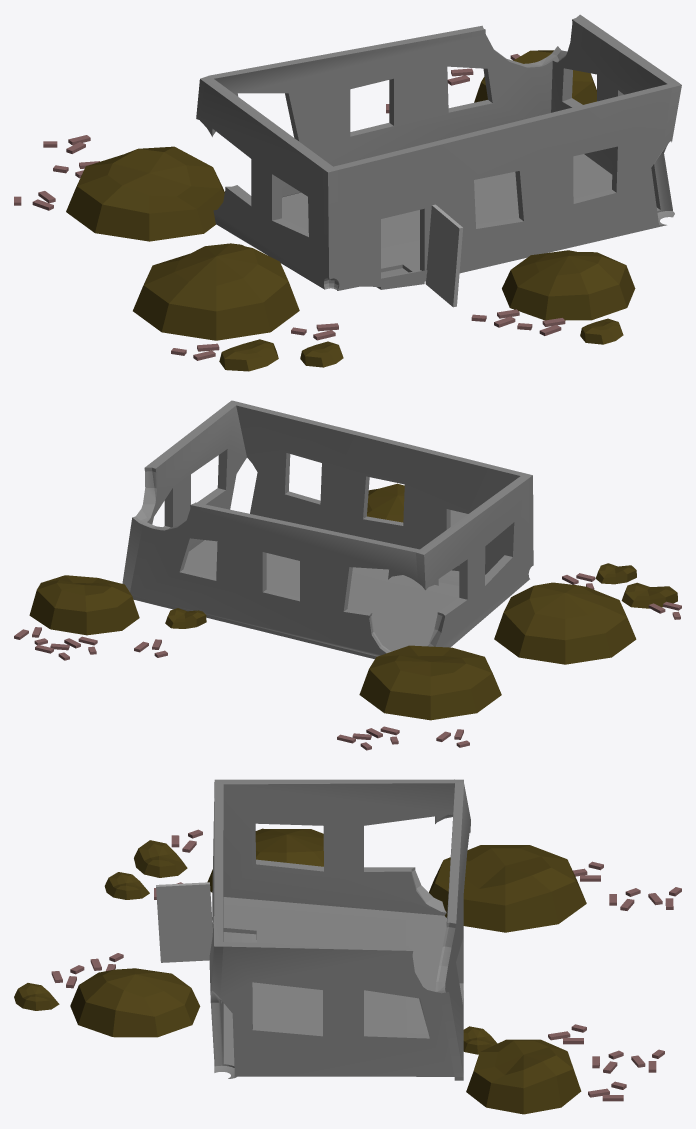
File: SmallRubble.fbx
3 renders of one model, top to bottom at view 1: azimuth 30°, elevation 25°; view 2: azimuth 150°, elevation 25°; view 3: azimuth 270°, elevation 25°, orthographic. The views are drawn at different scales.
Visible parts, largest first — view 1: BetaLevelProps3:BetaLevelProps3:polySurface3, BetaLevelProps3:BetaLevelProps3:pSphere1, BetaLevelProps3:BetaLevelProps3:pSphere6, BetaLevelProps3:BetaLevelProps3:pSphere3, BetaLevelProps3:BetaLevelProps3:pCube34, BetaLevelProps3:BetaLevelProps3:pSphere2, BetaLevelProps3:BetaLevelProps3:pSphere8, BetaLevelProps3:BetaLevelProps3:pSphere4, BetaLevelProps3:BetaLevelProps3:pSphere5; view 2: BetaLevelProps3:BetaLevelProps3:polySurface3, BetaLevelProps3:BetaLevelProps3:pSphere1, BetaLevelProps3:BetaLevelProps3:pSphere6, BetaLevelProps3:BetaLevelProps3:pSphere8, BetaLevelProps3:BetaLevelProps3:pSphere3, BetaLevelProps3:BetaLevelProps3:pSphere2, BetaLevelProps3:BetaLevelProps3:pSphere4, BetaLevelProps3:BetaLevelProps3:pSphere7; view 3: BetaLevelProps3:BetaLevelProps3:polySurface3, BetaLevelProps3:BetaLevelProps3:pSphere6, BetaLevelProps3:BetaLevelProps3:pSphere3, BetaLevelProps3:BetaLevelProps3:pSphere8, BetaLevelProps3:BetaLevelProps3:pCube34, BetaLevelProps3:BetaLevelProps3:pSphere1, BetaLevelProps3:BetaLevelProps3:pSphere2, BetaLevelProps3:BetaLevelProps3:pSphere5, BetaLevelProps3:BetaLevelProps3:pSphere4, BetaLevelProps3:BetaLevelProps3:pSphere7.
Boxes of the visible parts, x1,y1,x2,y2 form: BetaLevelProps3:BetaLevelProps3:polySurface3: (196,14,681,290); BetaLevelProps3:BetaLevelProps3:pSphere1: (133,243,299,340); BetaLevelProps3:BetaLevelProps3:pSphere6: (66,146,224,241); BetaLevelProps3:BetaLevelProps3:pSphere3: (502,250,635,320); BetaLevelProps3:BetaLevelProps3:pCube34: (425,204,463,307); BetaLevelProps3:BetaLevelProps3:pSphere2: (219,339,278,371); BetaLevelProps3:BetaLevelProps3:pSphere8: (474,50,596,104); BetaLevelProps3:BetaLevelProps3:pSphere4: (300,341,343,367); BetaLevelProps3:BetaLevelProps3:pSphere5: (580,318,623,344); BetaLevelProps3:BetaLevelProps3:polySurface3: (122,400,533,659); BetaLevelProps3:BetaLevelProps3:pSphere1: (494,582,636,664); BetaLevelProps3:BetaLevelProps3:pSphere6: (359,645,501,720); BetaLevelProps3:BetaLevelProps3:pSphere8: (29,575,139,635); BetaLevelProps3:BetaLevelProps3:pSphere3: (367,483,404,522); BetaLevelProps3:BetaLevelProps3:pSphere2: (621,582,677,608); BetaLevelProps3:BetaLevelProps3:pSphere4: (595,563,636,584); BetaLevelProps3:BetaLevelProps3:pSphere7: (165,608,206,628); BetaLevelProps3:BetaLevelProps3:polySurface3: (209,779,470,1080); BetaLevelProps3:BetaLevelProps3:pSphere6: (429,845,586,932); BetaLevelProps3:BetaLevelProps3:pSphere3: (70,968,200,1037); BetaLevelProps3:BetaLevelProps3:pSphere8: (466,1039,581,1114); BetaLevelProps3:BetaLevelProps3:pCube34: (156,882,212,962); BetaLevelProps3:BetaLevelProps3:pSphere1: (207,828,323,892); BetaLevelProps3:BetaLevelProps3:pSphere2: (134,840,187,877); BetaLevelProps3:BetaLevelProps3:pSphere5: (14,983,59,1010); BetaLevelProps3:BetaLevelProps3:pSphere4: (104,872,149,899); BetaLevelProps3:BetaLevelProps3:pSphere7: (463,1026,497,1054).
Bounding box in the file's own units: 155 × 36.75 × 155.
